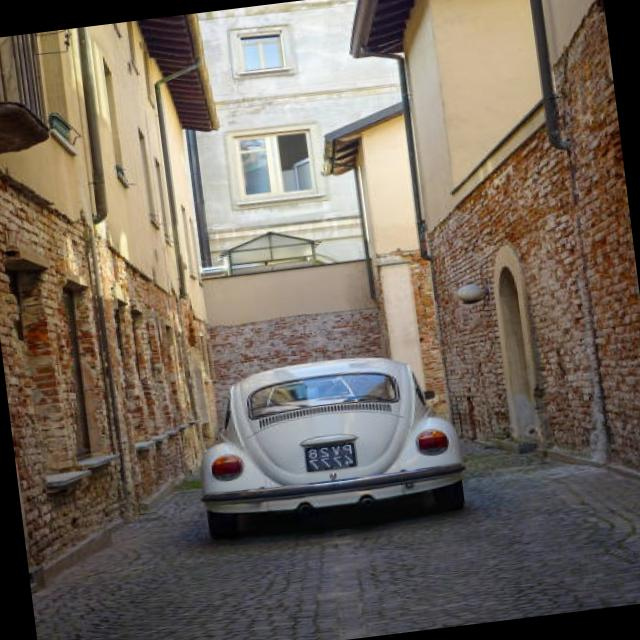car: (178, 330, 474, 530)
